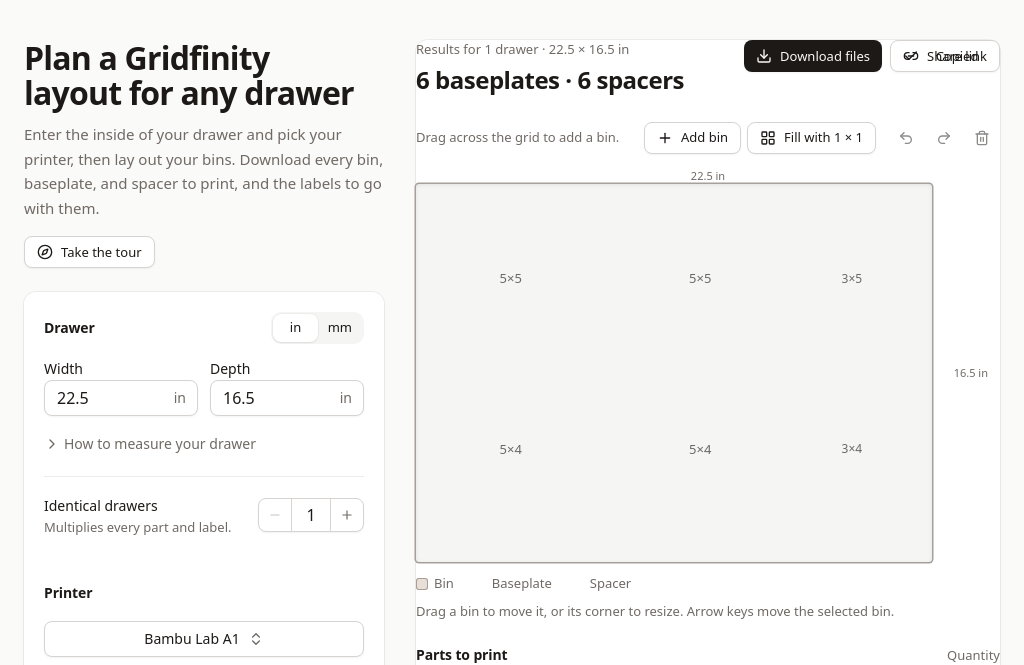
Test case: GridfinityCalculator › should open the guided tour when Take the tour is clicked
Check: the heading "Results for 1 drawer · 22.5 × 16.5 in" is shown, box [416,40,629,58]
Click the button "Take the tour" at (89, 252), box [24,236,154,268]
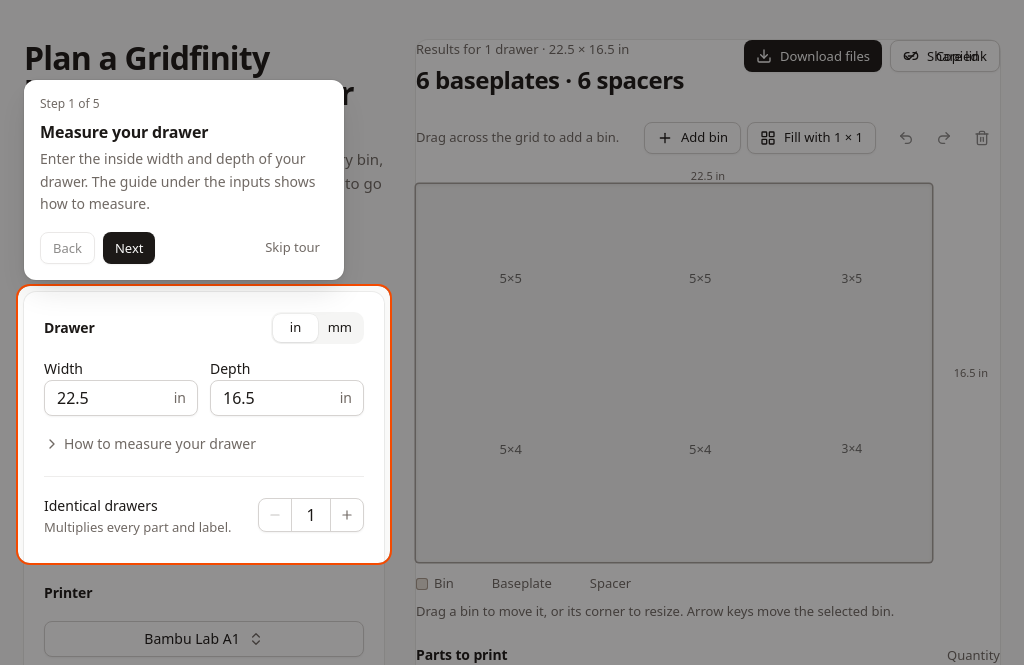
Check: the dialog is shown, box [24,80,344,280]
Check: the heading "Measure your drawer" is shown, box [40,121,208,143]
Check: the text "Step 1 of 5" is shown, box [40,96,100,112]
